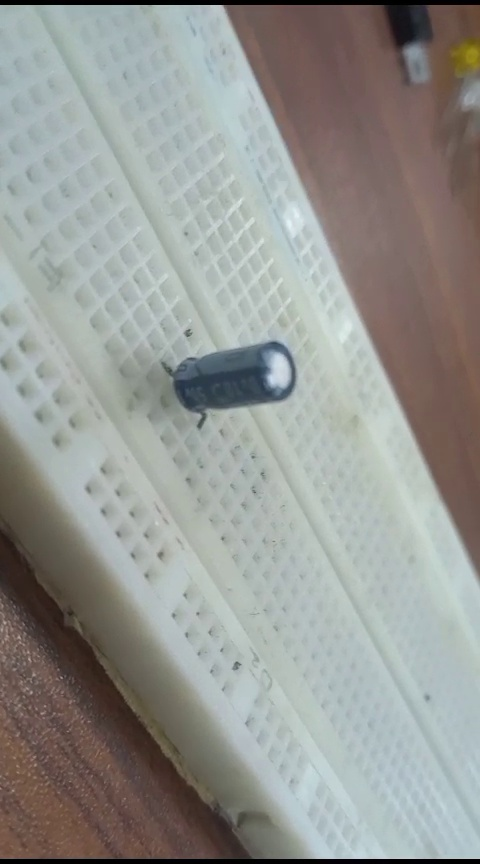capacitor: (159, 331, 300, 437)
